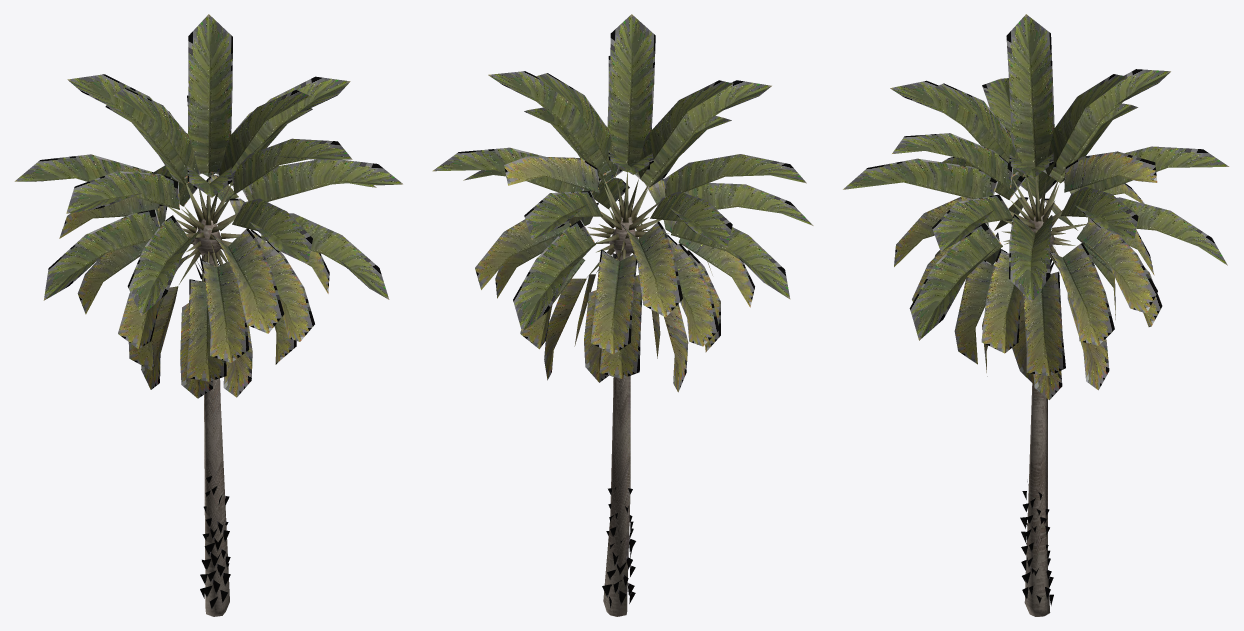
The model's file is tropical-palm-tall-a-mid.glb.
The picture shows the model from 3 angles, left to right: view 1: azimuth 30°, elevation 25°; view 2: azimuth 150°, elevation 25°; view 3: azimuth 270°, elevation 25°; orthographic projection.
Parts seen in each view (by area): view 1: palm_tree_tall_a_LOD0; view 2: palm_tree_tall_a_LOD0; view 3: palm_tree_tall_a_LOD0.
Boxes of the visible parts, x1,y1,x2,y2 form: palm_tree_tall_a_LOD0: (14,14,402,616); palm_tree_tall_a_LOD0: (432,14,813,616); palm_tree_tall_a_LOD0: (843,14,1229,616).
Size of the model in its own units: 16.88 by 27.43 by 17.24.
1 material, 1 textured.
